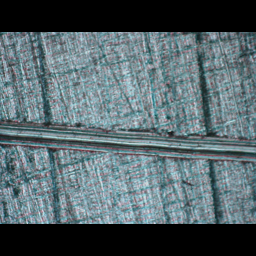d: (0, 113, 254, 164)
